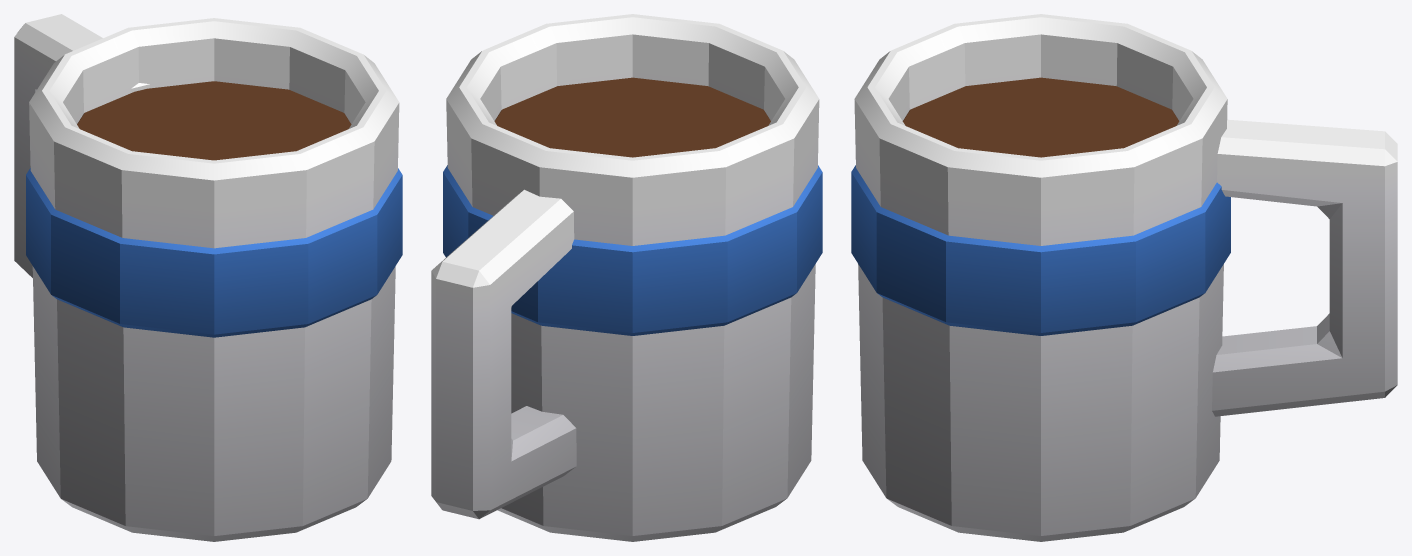
File: Mug.fbx
The picture shows the model from 3 angles, left to right: view 1: azimuth 30°, elevation 25°; view 2: azimuth 150°, elevation 25°; view 3: azimuth 270°, elevation 25°; orthographic projection.
Visible parts, largest first — view 1: Mug; view 2: Mug; view 3: Mug.
Part boxes in pixels (x1,y1,x2,y2): Mug: [14, 14, 402, 541]; Mug: [431, 14, 822, 541]; Mug: [851, 14, 1397, 541].
Size of the model in its own units: 0.4023 by 0.45 by 0.5792.
Materials: 1 (1 with a texture image).
